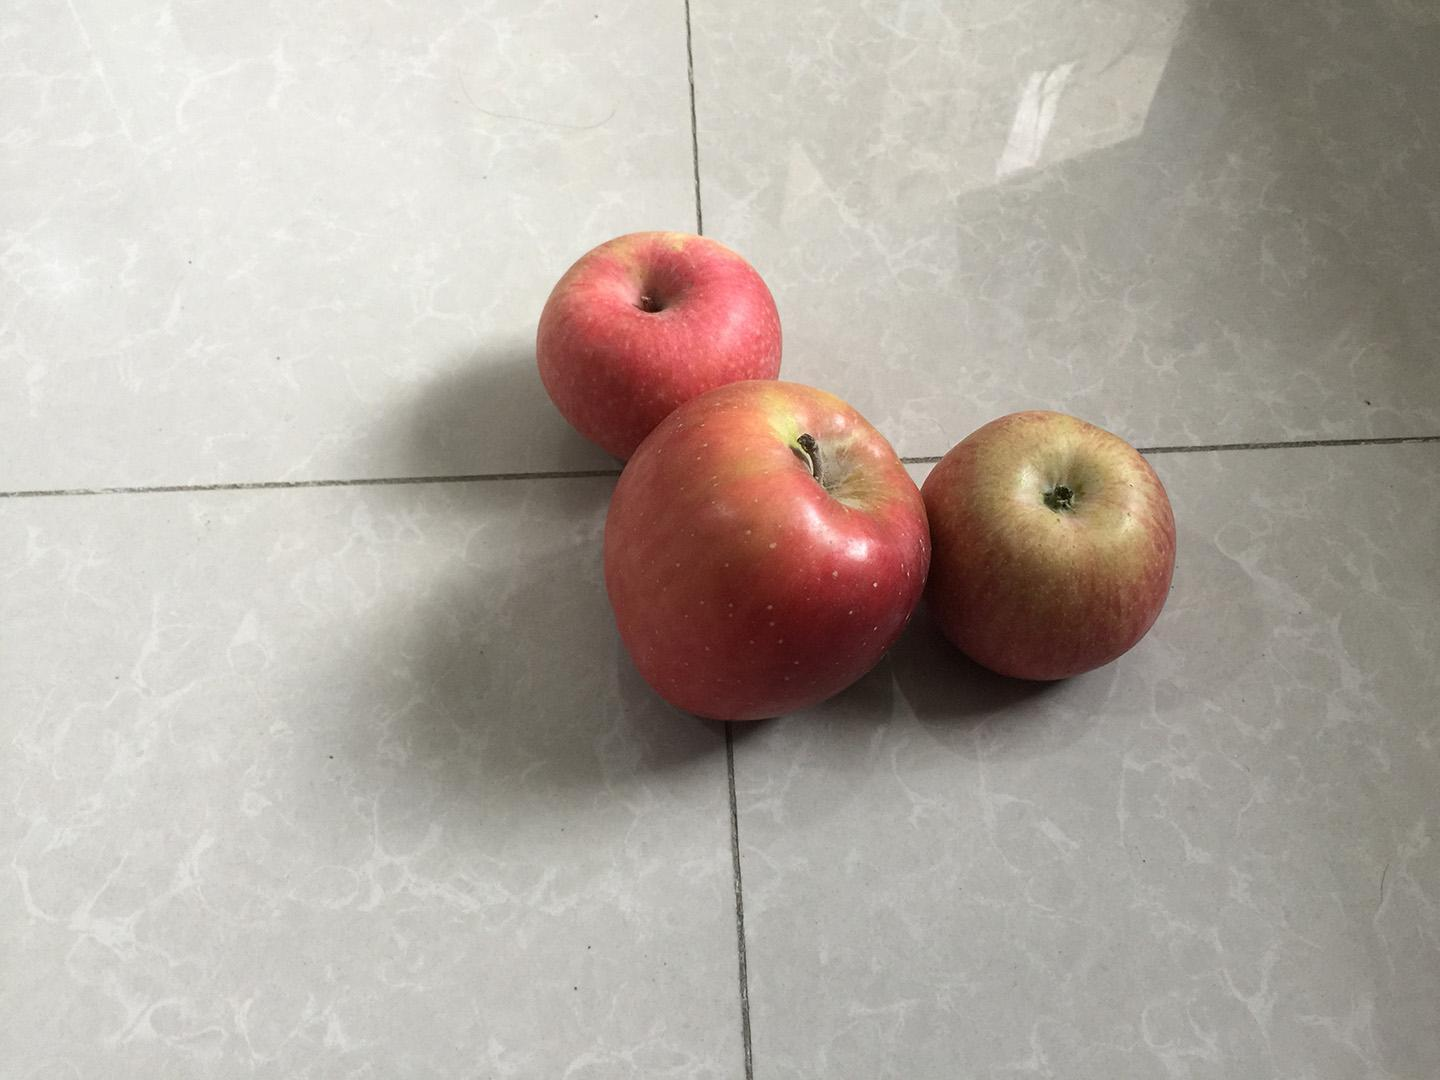apple: (592, 376, 941, 731), (906, 404, 1191, 690), (528, 221, 815, 486)
